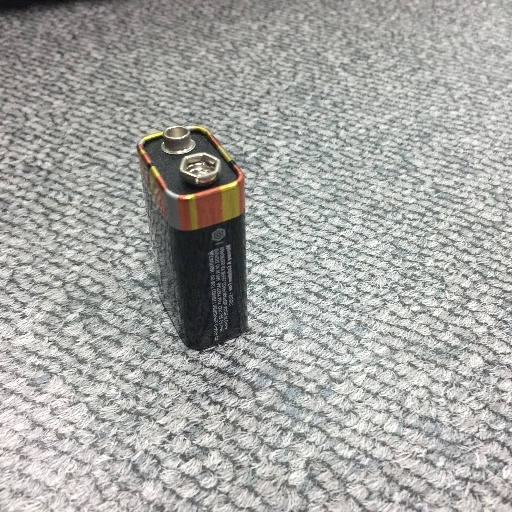Battery_3: (124, 112, 274, 368)
